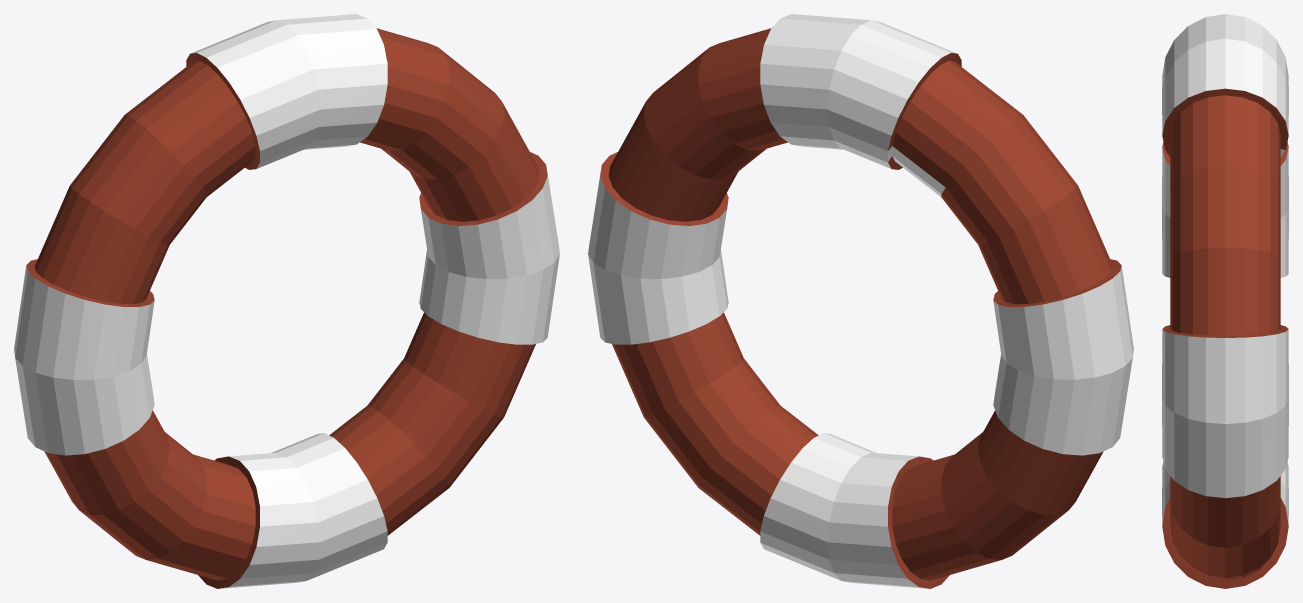
File: Checkpoint.fbx
The picture shows the model from 3 angles, left to right: view 1: azimuth 30°, elevation 25°; view 2: azimuth 150°, elevation 25°; view 3: azimuth 270°, elevation 25°; orthographic projection. The views are drawn at different scales.
Parts seen in each view (by area): view 1: Checkpoint; view 2: Checkpoint; view 3: Checkpoint.
Boxes of the visible parts, x1=… form: Checkpoint: x1=14, y1=14, x2=559, y2=588; Checkpoint: x1=588, y1=14, x2=1133, y2=588; Checkpoint: x1=1162, y1=14, x2=1288, y2=588.
Size of the model in its own units: 402 by 402 by 87.8.
